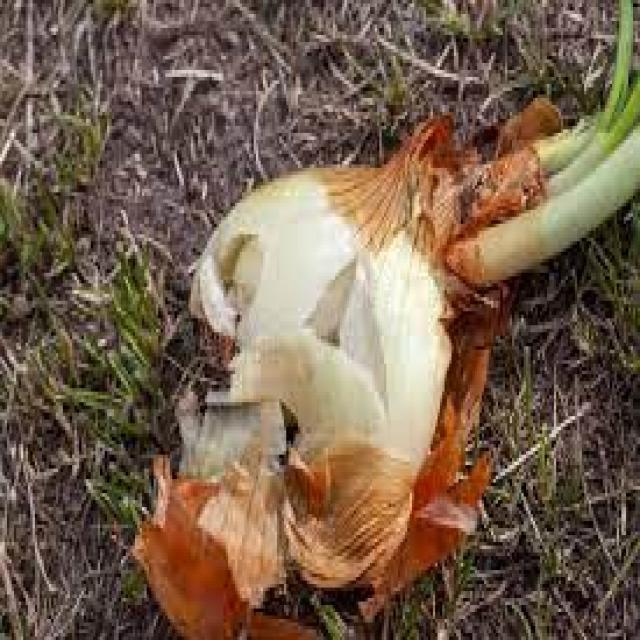Onion: (130, 290, 500, 640), (195, 165, 453, 486), (453, 0, 640, 284), (399, 100, 561, 158)
